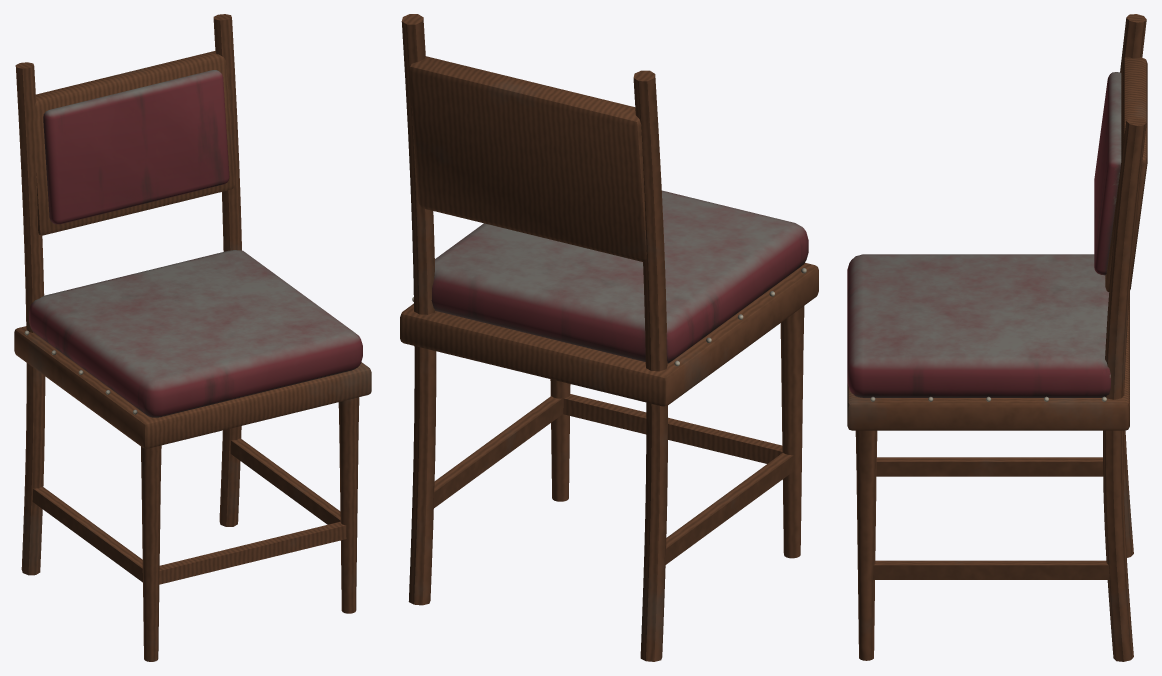
File: SM_DiningChair_Upholstered.fbx
3 renders of one model, left to right at view 1: azimuth 30°, elevation 25°; view 2: azimuth 150°, elevation 25°; view 3: azimuth 270°, elevation 25°, orthographic. The views are drawn at different scales.
Visible parts, largest first — view 1: SM_DiningChair_Upholstered; view 2: SM_DiningChair_Upholstered; view 3: SM_DiningChair_Upholstered.
Part boxes in pixels (x1=…): SM_DiningChair_Upholstered: x1=14, y1=14, x2=371, y2=661; SM_DiningChair_Upholstered: x1=400, y1=14, x2=818, y2=661; SM_DiningChair_Upholstered: x1=847, y1=14, x2=1147, y2=661.
Bounding box in the file's own units: 0.44 × 0.9229 × 0.4674.
Materials: 1 (1 with a texture image).
